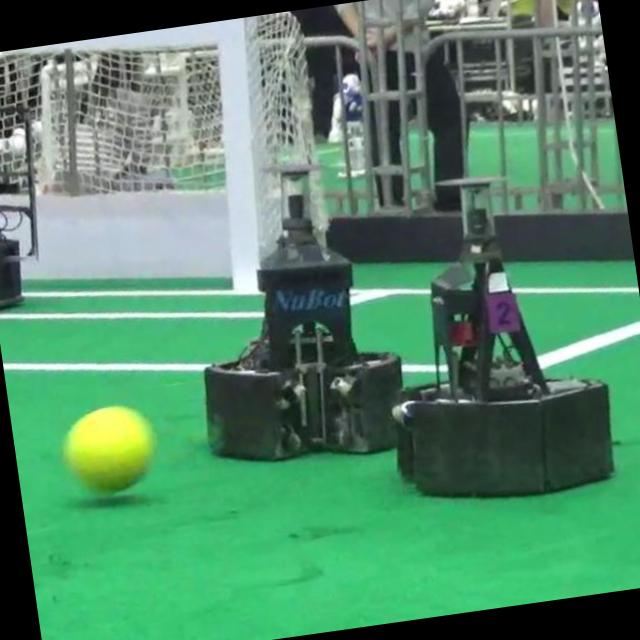ball: (64, 406, 153, 492)
goal: (214, 18, 262, 293)
robot: (394, 178, 615, 498), (205, 169, 403, 461), (0, 109, 37, 308)
